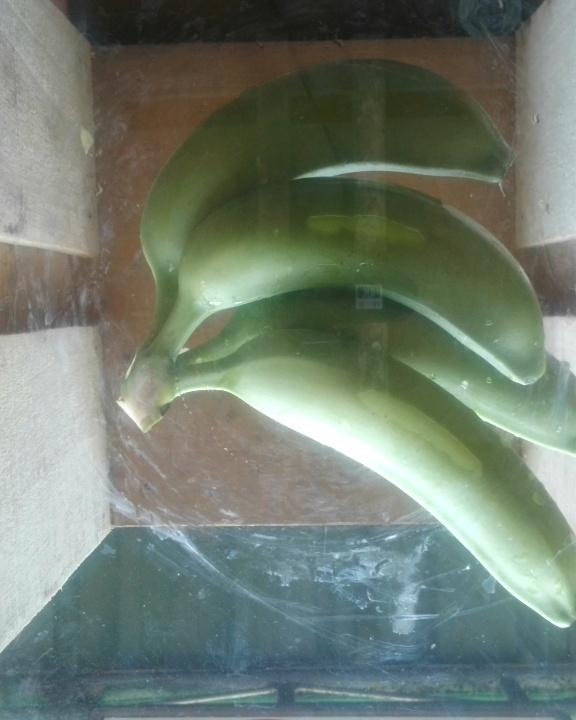SPOT: (110, 54, 576, 638)
